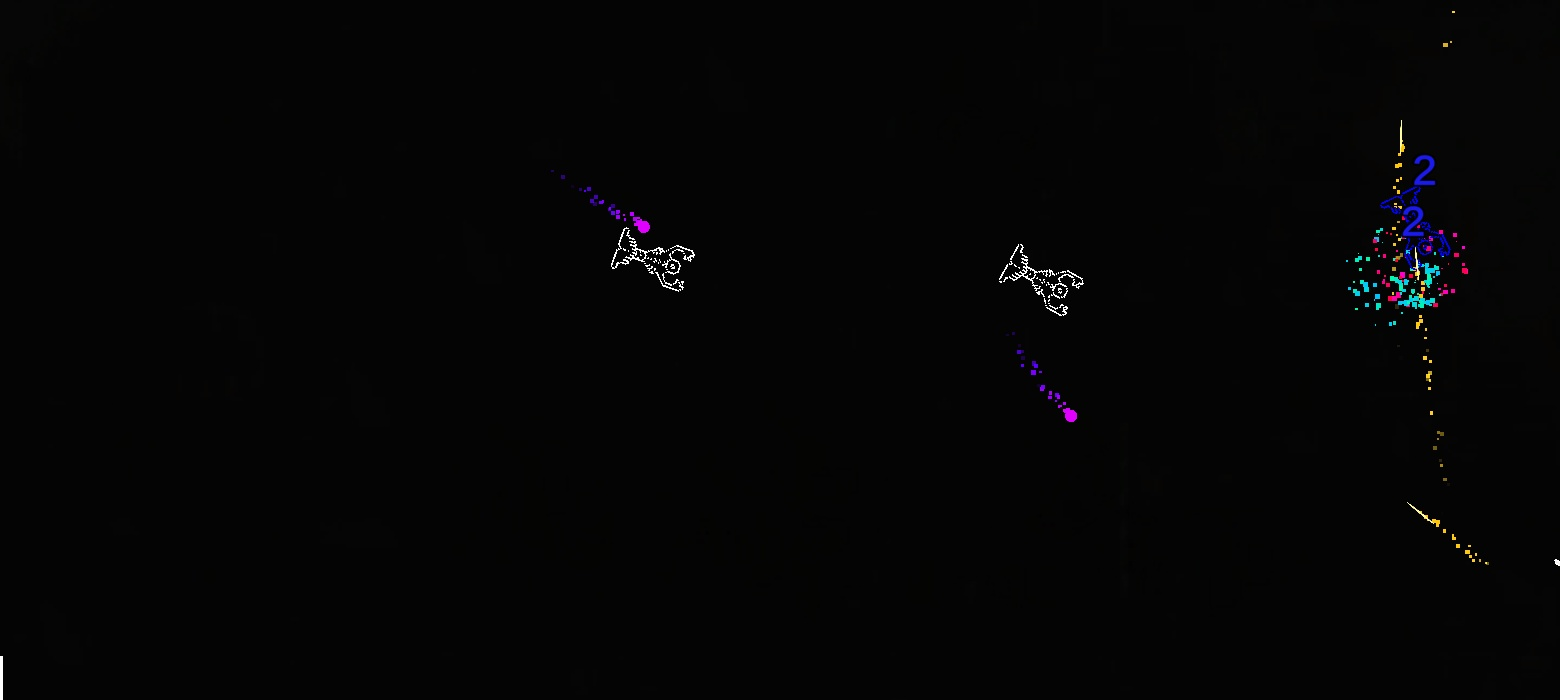enemy: (998, 243, 1084, 316), (610, 227, 695, 292)
